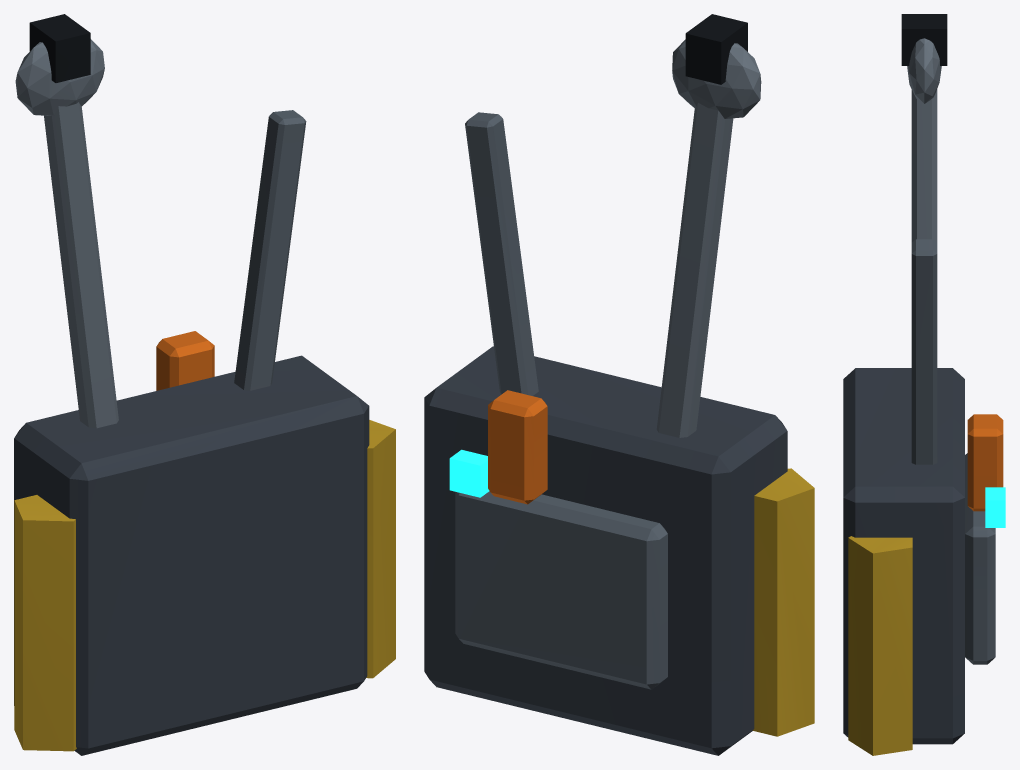
Rendered from gear.back.engineer_rig.glb.
3 renders of one model, left to right at view 1: azimuth 30°, elevation 25°; view 2: azimuth 150°, elevation 25°; view 3: azimuth 270°, elevation 25°, orthographic. The views are drawn at different scales.
Visible parts, largest first — view 1: socket.back@engineer_rig.base; view 2: socket.back@engineer_rig.base, socket.back@engineer_rig.emissive.cyan; view 3: socket.back@engineer_rig.base, socket.back@engineer_rig.emissive.cyan.
Part boxes in pixels (<box>): socket.back@engineer_rig.base: <box>14,14,395,755</box>; socket.back@engineer_rig.base: <box>424,14,814,755</box>; socket.back@engineer_rig.emissive.cyan: <box>449,449,489,497</box>; socket.back@engineer_rig.base: <box>843,14,1003,755</box>; socket.back@engineer_rig.emissive.cyan: <box>985,487,1005,527</box>.
Bounding box in the file's own units: 0.3732 × 0.665 × 0.16.
